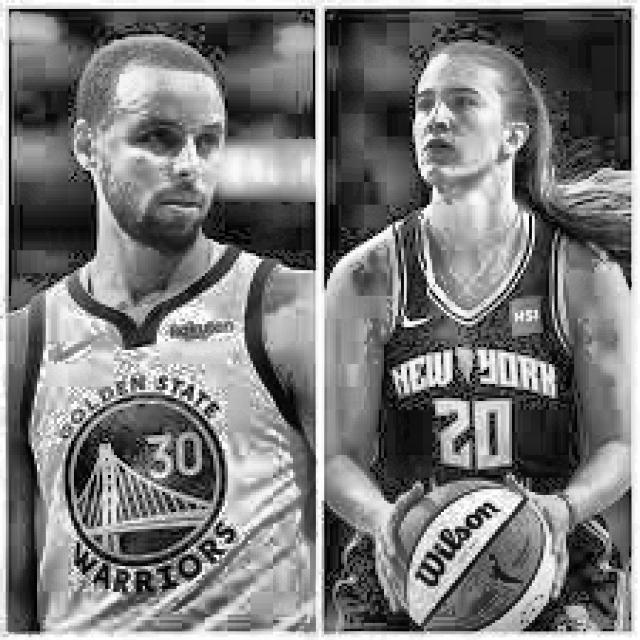Basketball: (395, 481, 558, 633)
